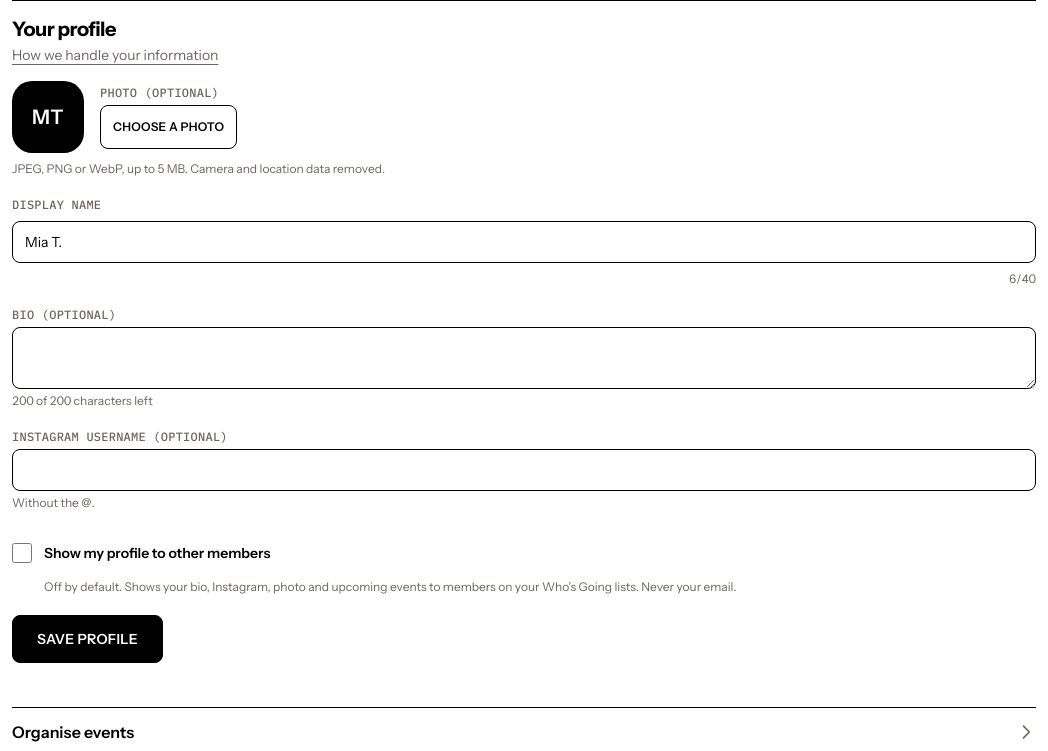
Test: AccountContent › keeps focus on Save profile while saving (busy, not disabled), and after it's saved
This screenshot has width=1048, height=751.
Step 1. Replace the text in the field labelled "Display name" with "Mia Thompson" → (524, 242), box [12,221,1036,263]
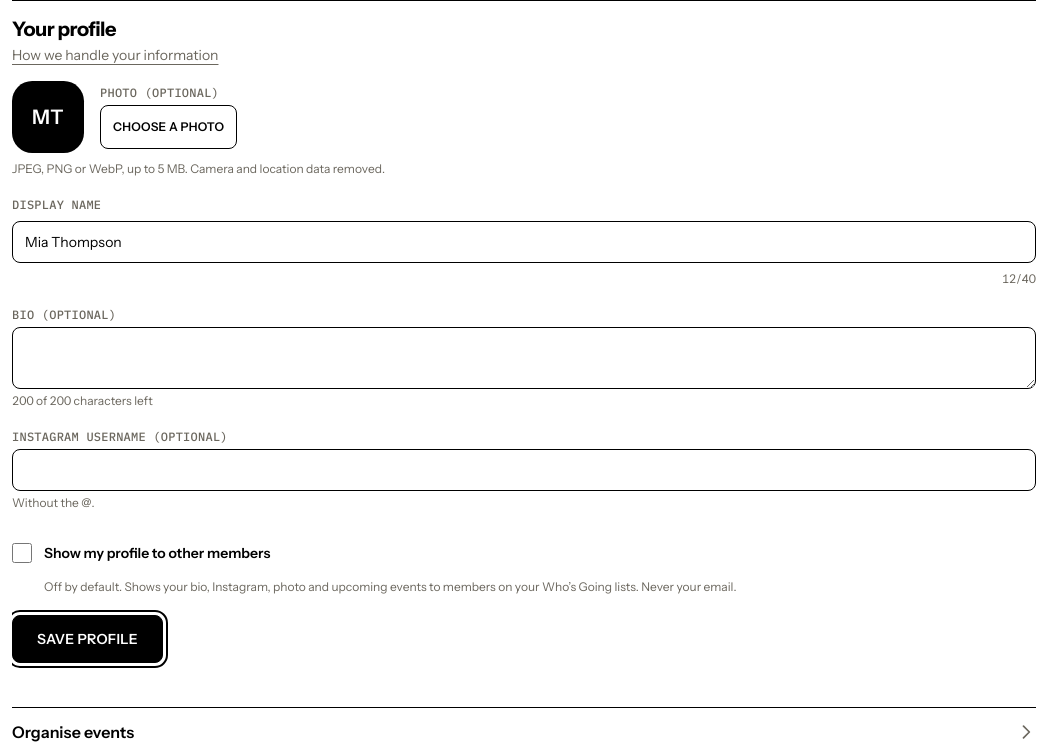
Step 2. Click the button "Save profile" → (87, 639), box [12,615,163,663]
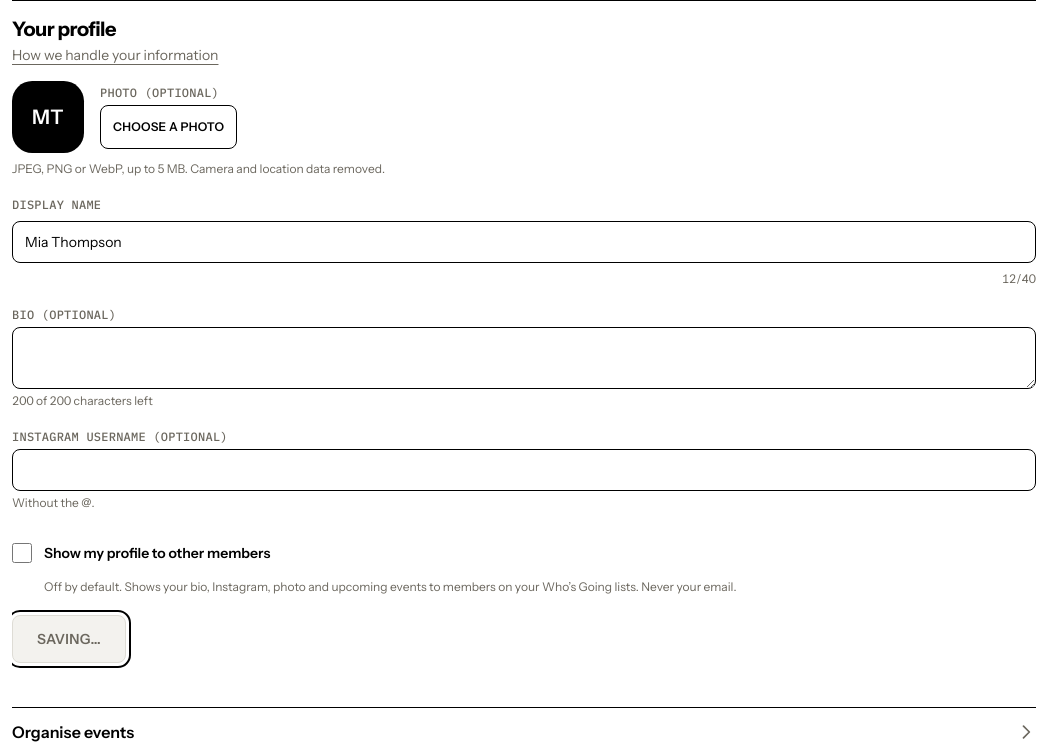
Now the button "Saving…" is enabled
Step 3. Click the button "Saving…" → (69, 639), box [12,615,126,663]
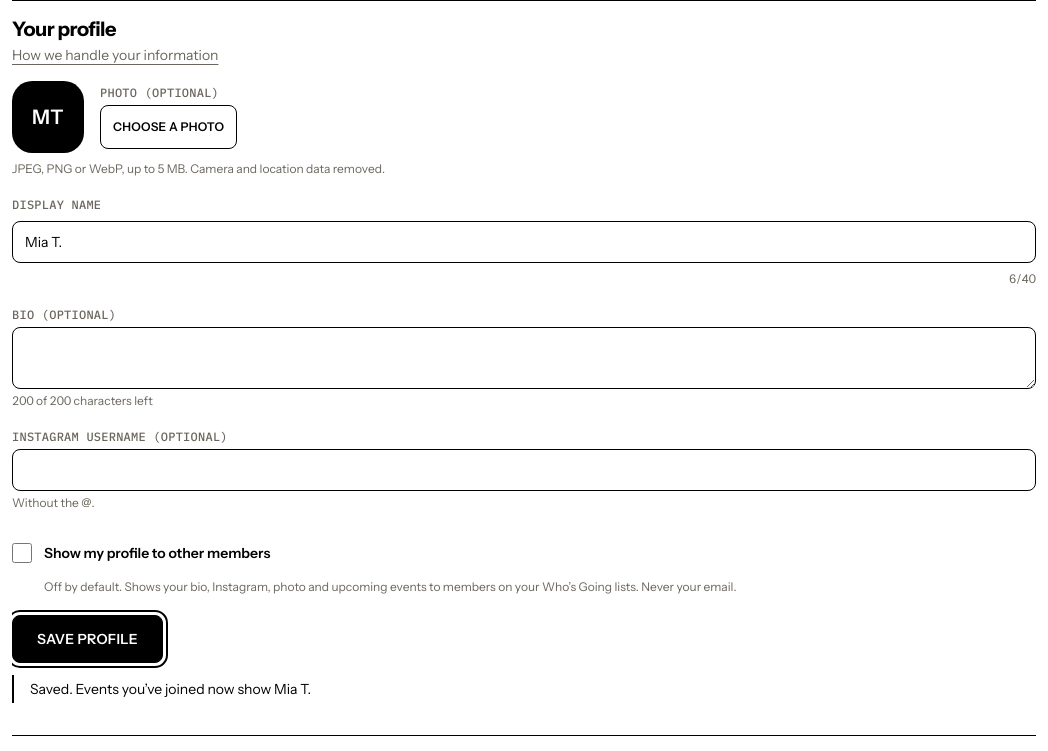
Now the message reads "Saved. Events you’ve joined now show Mia T.", box [30,680,311,698]
